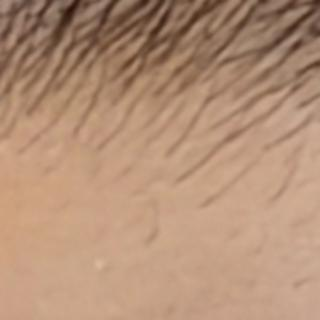2: (142, 224, 163, 249), (240, 271, 261, 294), (115, 160, 136, 183), (161, 300, 181, 320)
Pores: (225, 222, 247, 245), (249, 242, 267, 260), (289, 275, 308, 292)
